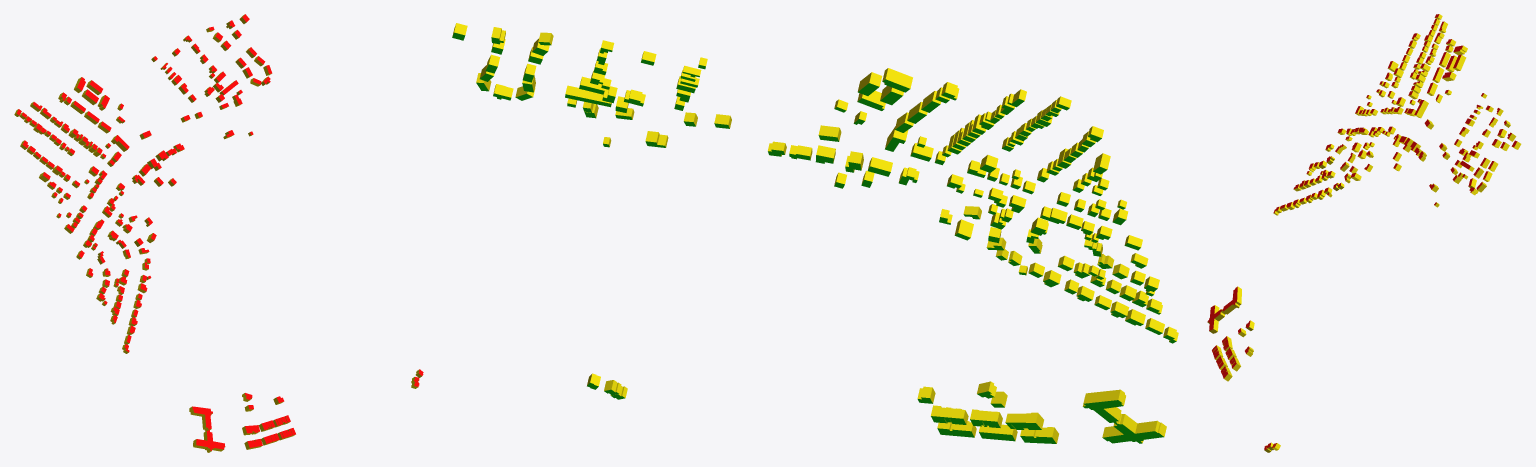
The picture shows the model from 3 angles, left to right: view 1: azimuth 30°, elevation 25°; view 2: azimuth 150°, elevation 25°; view 3: azimuth 270°, elevation 25°; orthographic projection. The views are drawn at different scales.
Visible parts, largest first — view 1: mesh; view 2: mesh; view 3: mesh.
Boxes of the visible parts, <box> form: mesh: <box>14,14,423,452</box>; mesh: <box>452,23,1178,443</box>; mesh: <box>1207,14,1521,452</box>.
Size of the model in its own units: 909 by 779 by 754.
